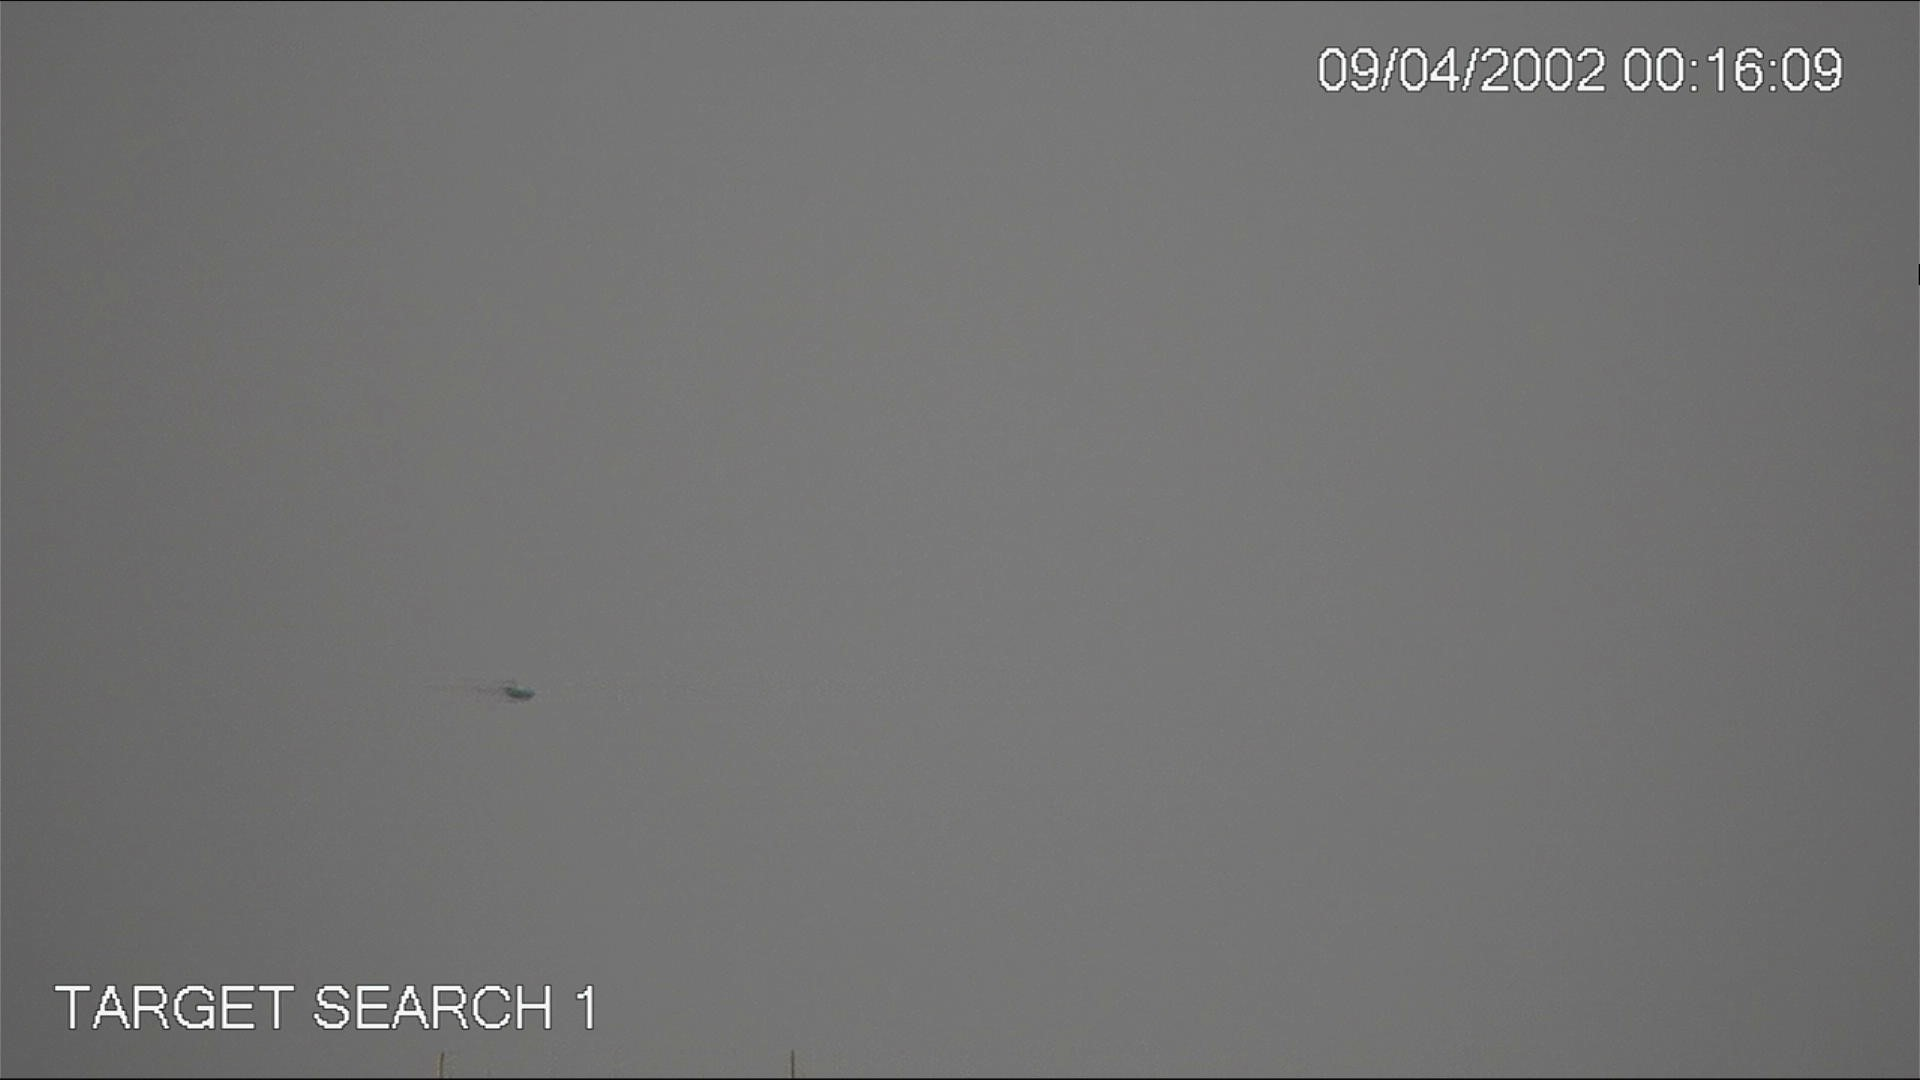SU_30: (502, 683, 533, 702)
